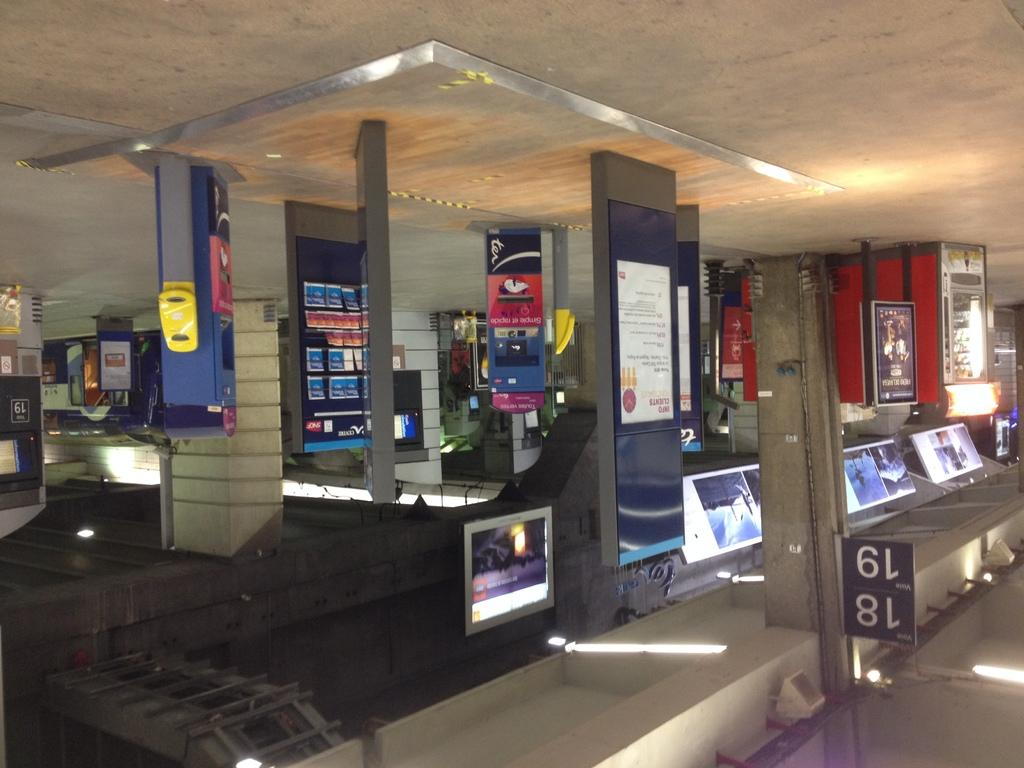Computer-monitor: (460, 503, 557, 637)
